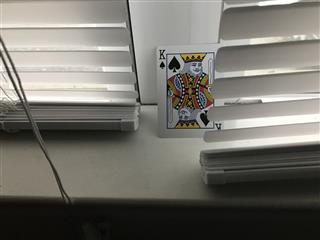KingOfSpades: (155, 44, 224, 138)
